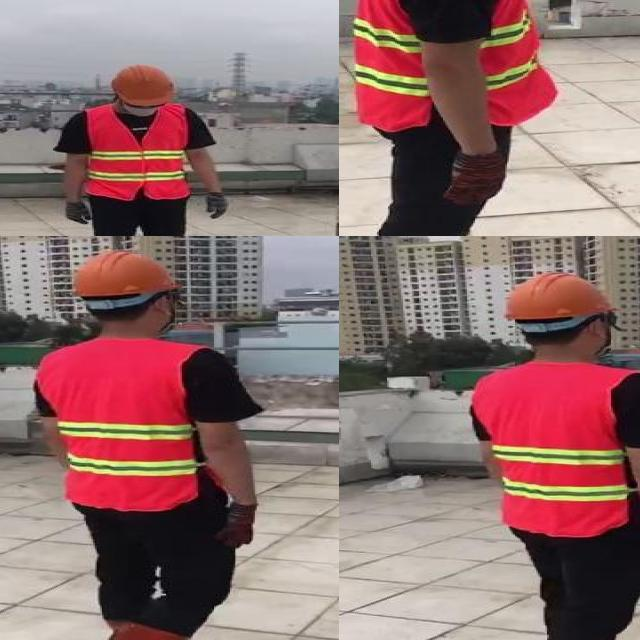boots: (100, 618, 125, 631)
hand_glove: (447, 151, 505, 205), (214, 503, 257, 547), (204, 191, 231, 219), (64, 199, 92, 223)
head_helmet: (499, 270, 622, 326), (68, 248, 180, 300), (107, 64, 177, 108)
person: (22, 246, 268, 640), (458, 260, 640, 640), (339, 0, 605, 236), (44, 64, 236, 236)
vest: (33, 337, 207, 511), (471, 363, 628, 537), (354, 0, 555, 131), (85, 105, 193, 200)
